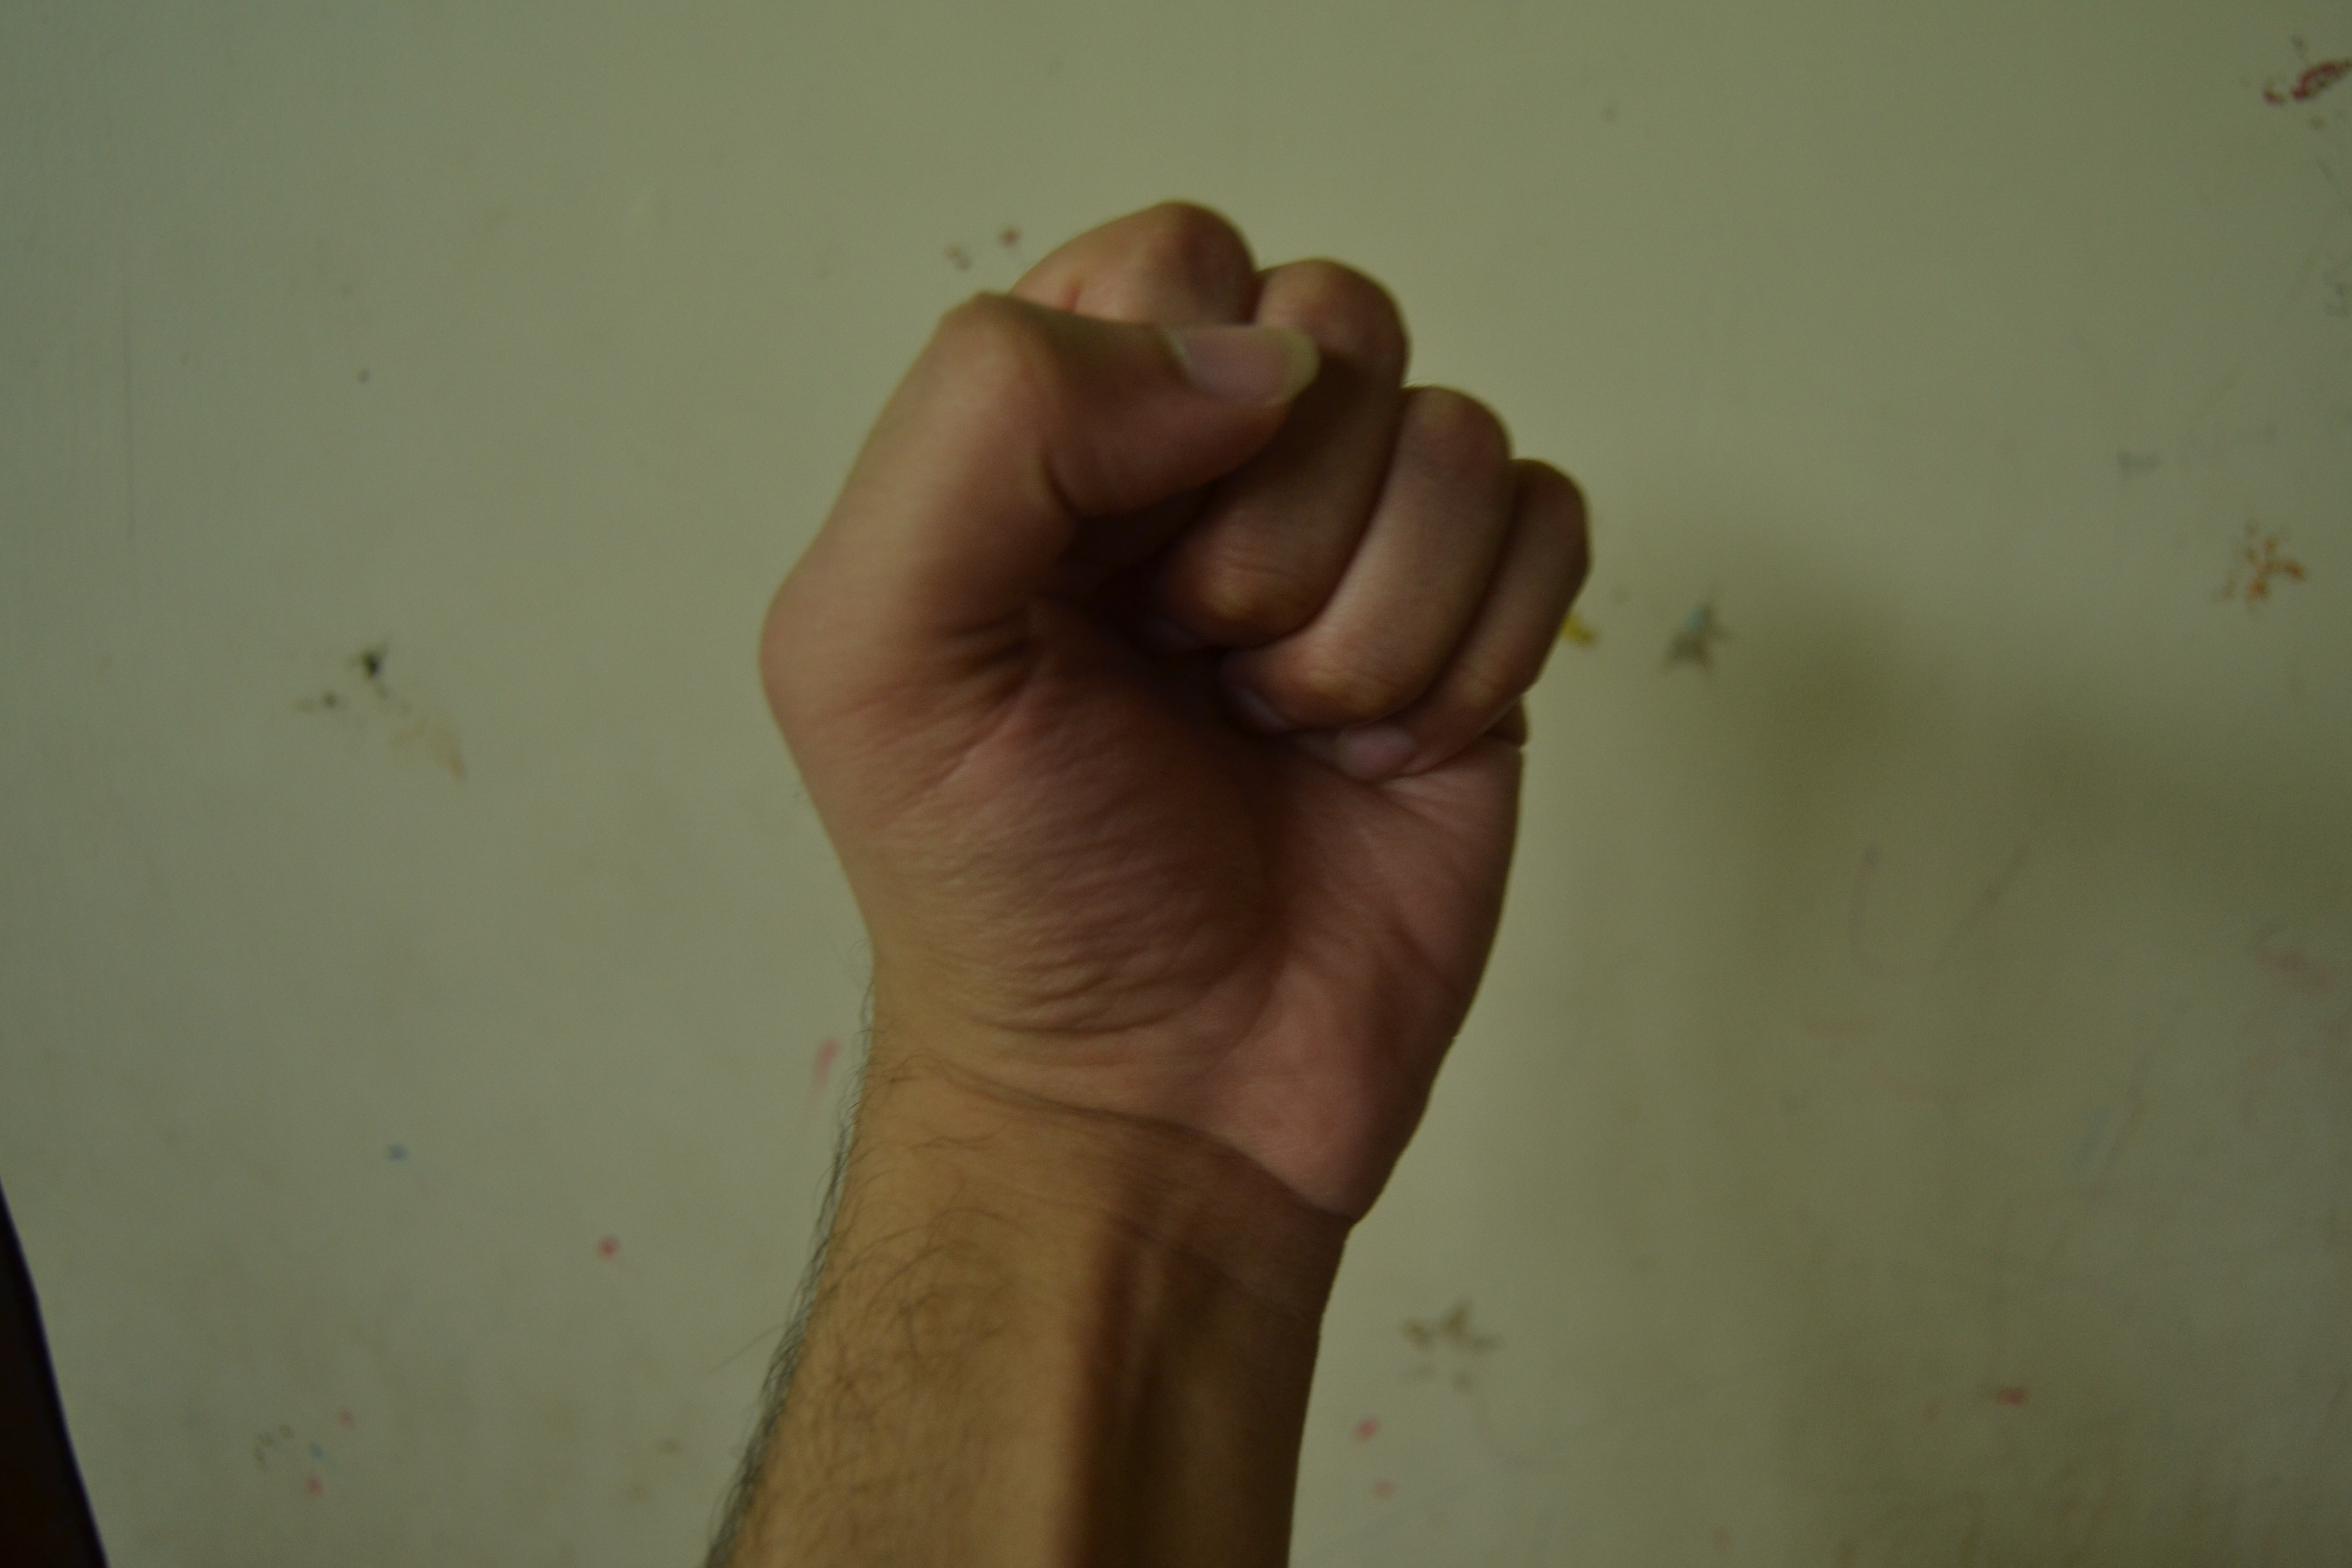click: (726, 126, 1610, 1379)
